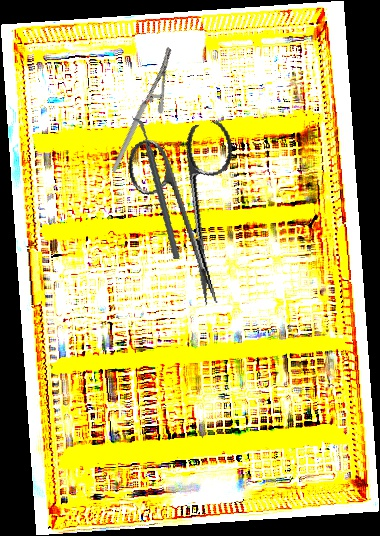Chopper: (110, 116, 202, 260)
Iris Scissors: (122, 118, 266, 316)
Needle Holder: (78, 45, 204, 174)
